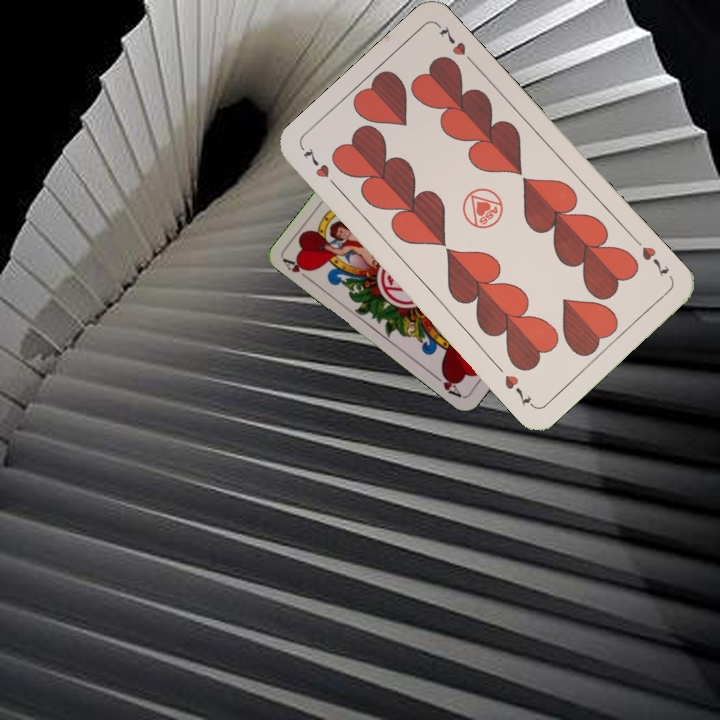H7: (298, 144, 342, 193), (629, 234, 672, 278)
HA: (280, 255, 315, 284)
